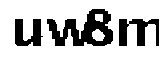8: (86, 3, 114, 47)
m: (116, 13, 160, 49)
u: (12, 15, 44, 50)
w: (46, 16, 89, 51)
